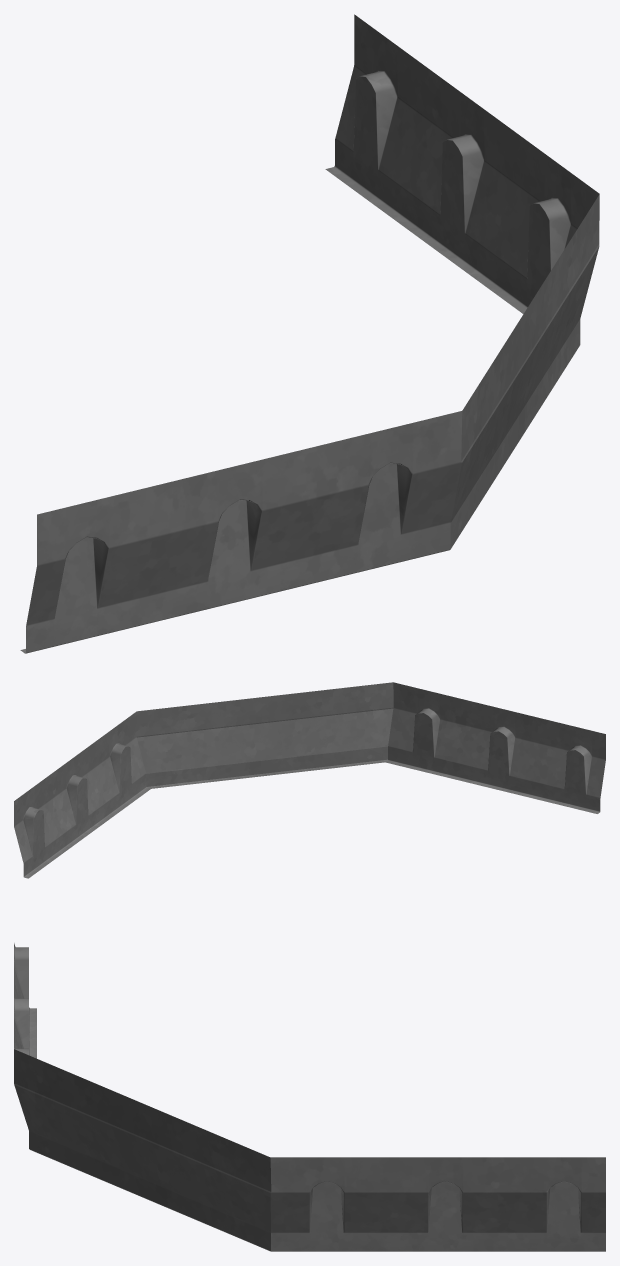
Rendered from TrimV3_OutsideBevel.fbx.
3 views of the same model, one above another, from view 1: azimuth 30°, elevation 25°; view 2: azimuth 150°, elevation 25°; view 3: azimuth 270°, elevation 25° (orthographic). The views are drawn at different scales.
Visible parts, largest first — view 1: TrimV3_OutsideBevel; view 2: TrimV3_OutsideBevel; view 3: TrimV3_OutsideBevel.
Part boxes in pixels (x1,y1,x2,y2): TrimV3_OutsideBevel: [20, 14, 599, 653]; TrimV3_OutsideBevel: [14, 682, 605, 878]; TrimV3_OutsideBevel: [14, 943, 605, 1251].
Size of the model in its own units: 531 by 99.88 by 531.
Materials: 1 (1 with a texture image).
